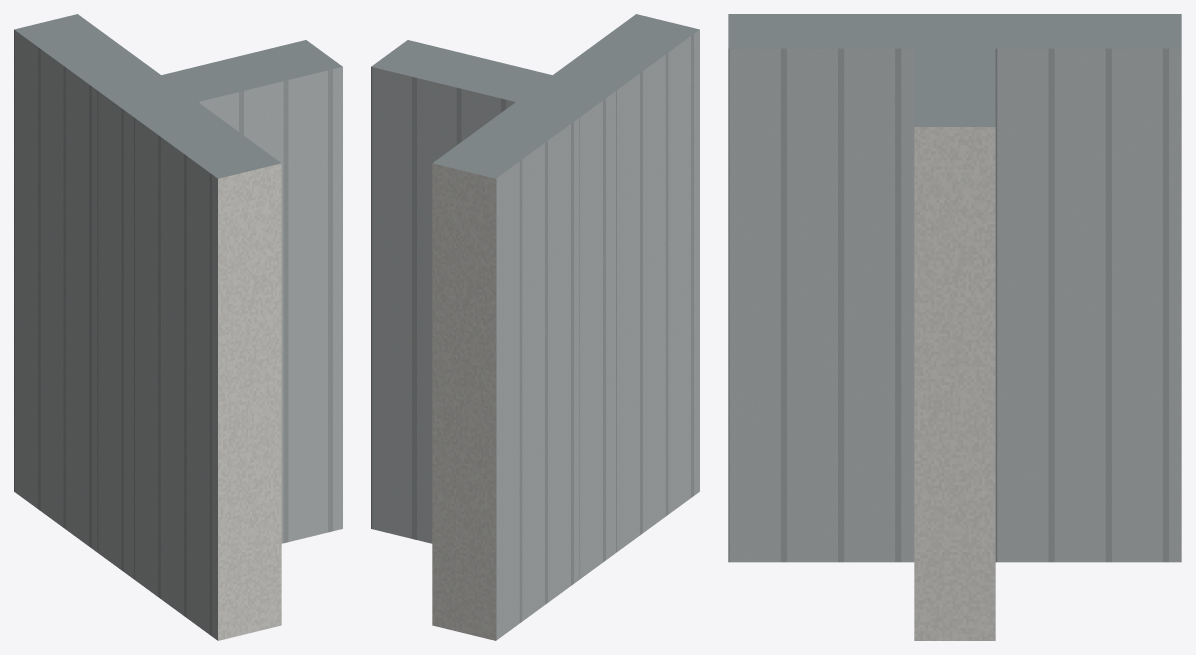
Rendered from Wall_07.glb.
3 views of the same model, side by side, from view 1: azimuth 30°, elevation 25°; view 2: azimuth 150°, elevation 25°; view 3: azimuth 270°, elevation 25° (orthographic). The views are drawn at different scales.
Visible parts, largest first — view 1: Wall_NESW_07; view 2: Wall_NESW_07; view 3: Wall_NESW_07.
Part boxes in pixels (x1,y1,x2,y2): Wall_NESW_07: [14, 14, 342, 640]; Wall_NESW_07: [371, 14, 699, 640]; Wall_NESW_07: [728, 14, 1181, 640].
Bounding box in the file's own units: 0.59 × 1.25 × 1.
1 material, 1 textured.
